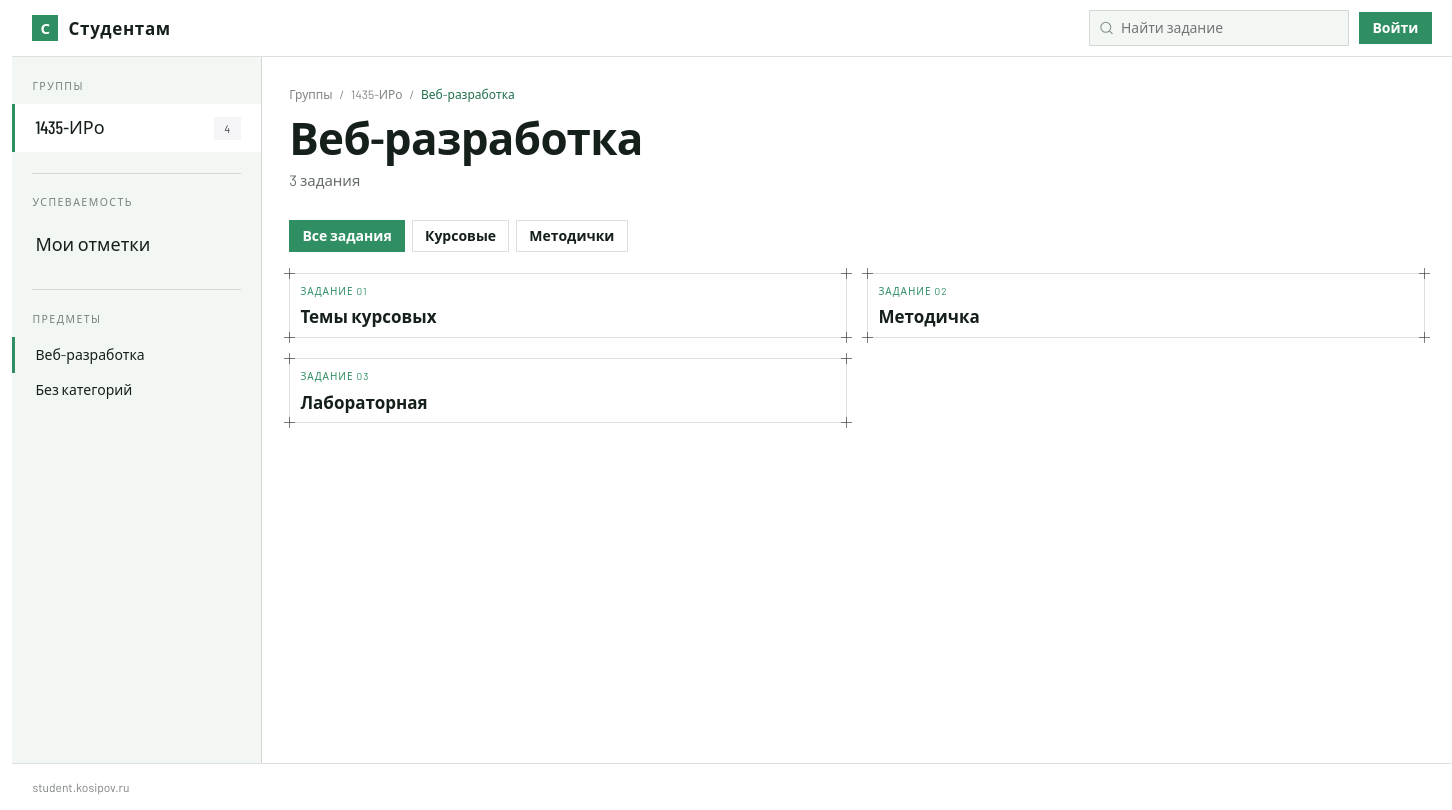
Test case: SubjectPage filters › filters tasks by category and keeps the choice in the address
This screenshot has width=1452, height=810.
Click the button "Методички" at (572, 236), box [516,220,628,252]
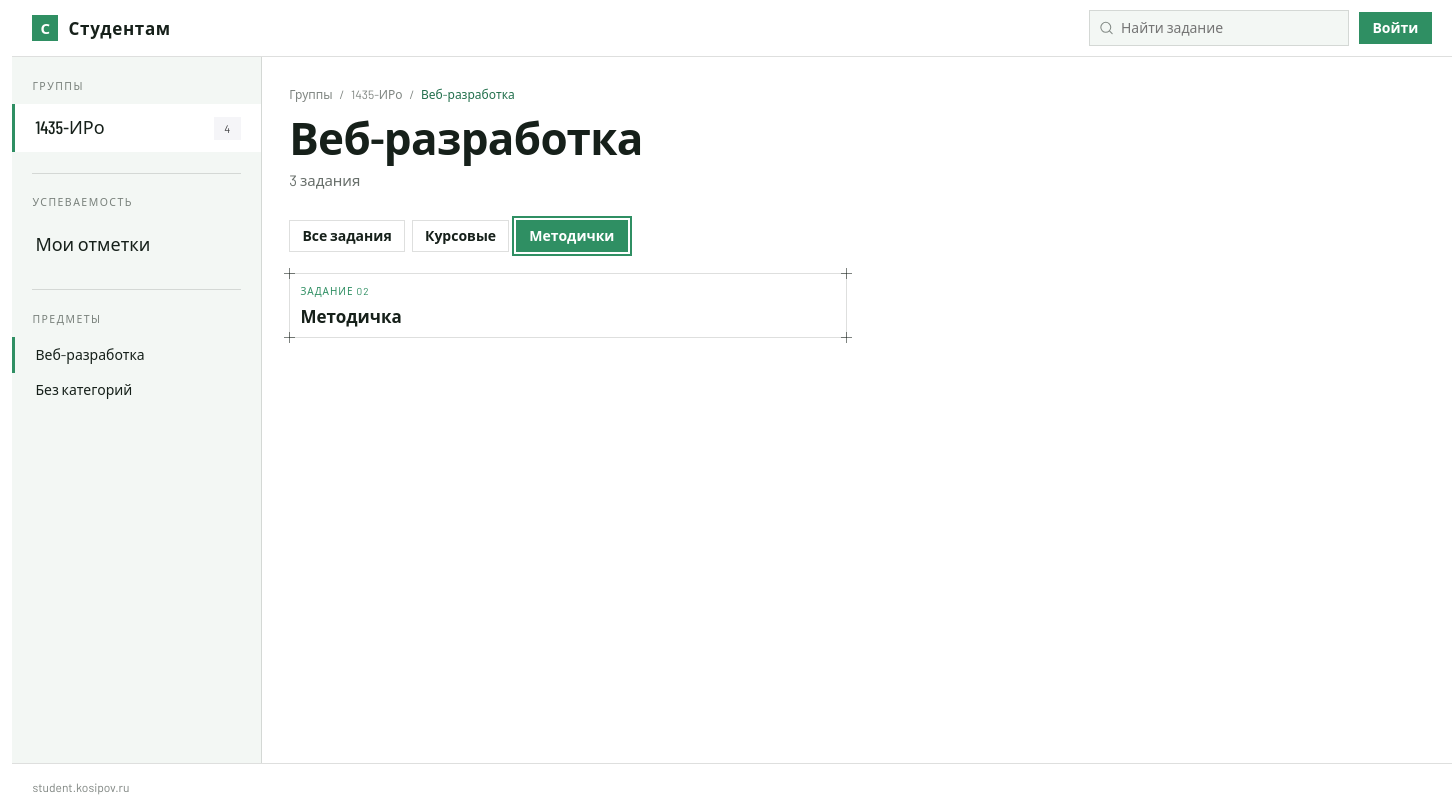
Expected: the text "Задание 02" is shown, [300,285,370,297]
Click the button "Все задания" at (347, 236), box [289,220,405,252]
(page scrolled)
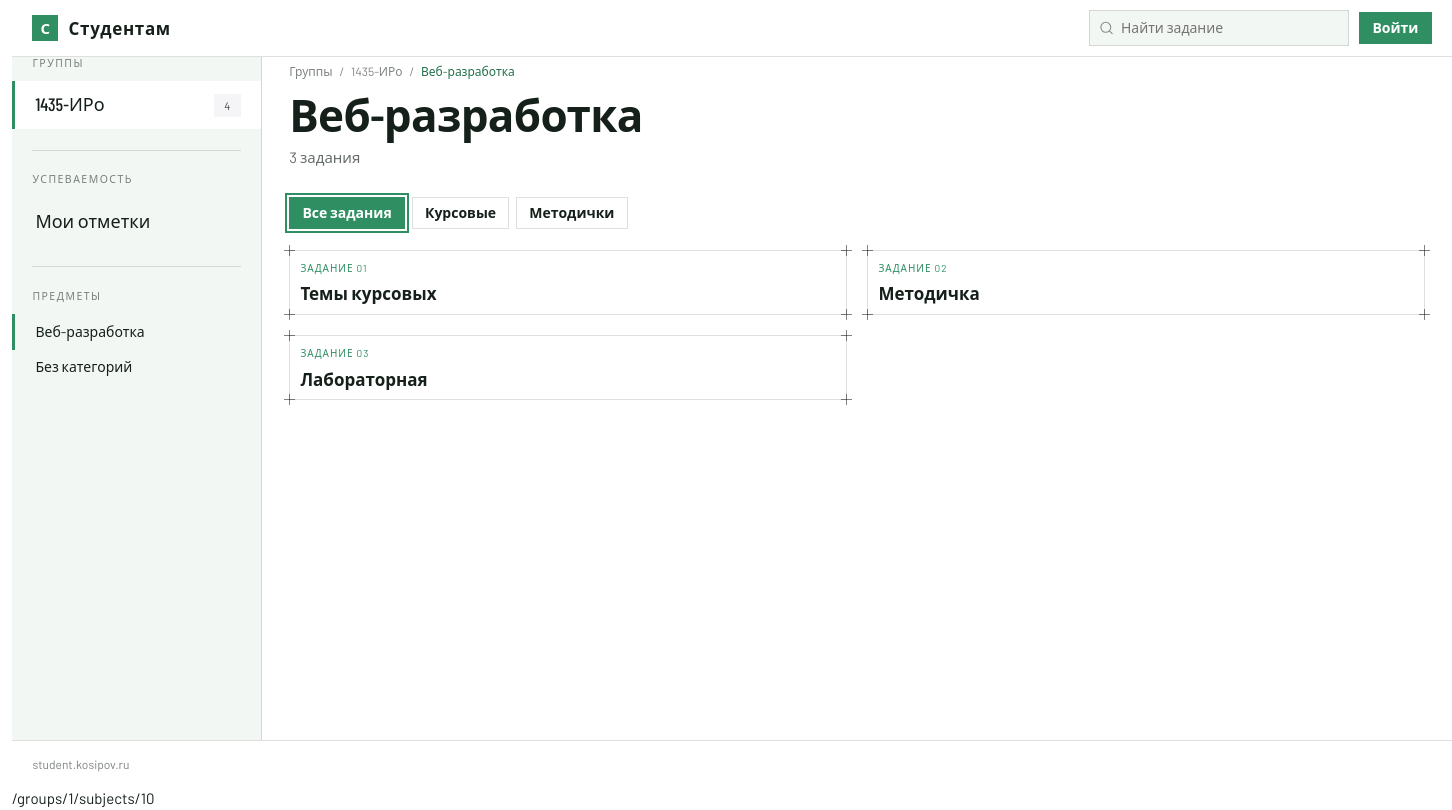
Expected: the text with test id "location" reads "/groups/1/subjects/10", [12,789,154,807]
